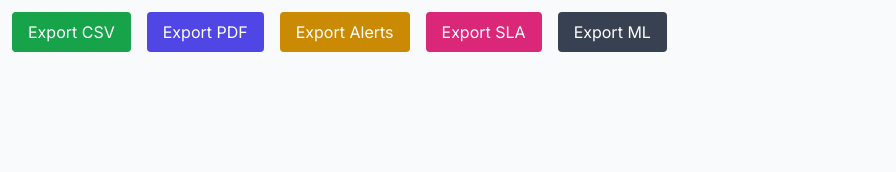
Test: ExportButtons › shows fallback error if fetch throws
Click the button "Export CSV". click: (71, 32)
box: [12, 12, 131, 52]
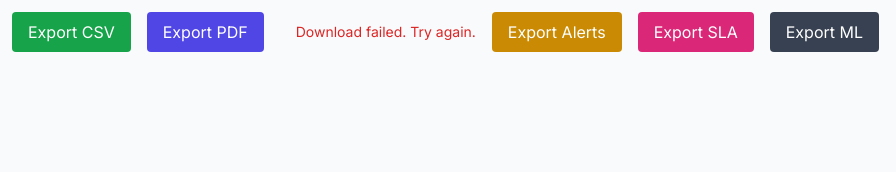
Check: the text "Download failed. Try again." is shown, box [296, 22, 476, 42]
